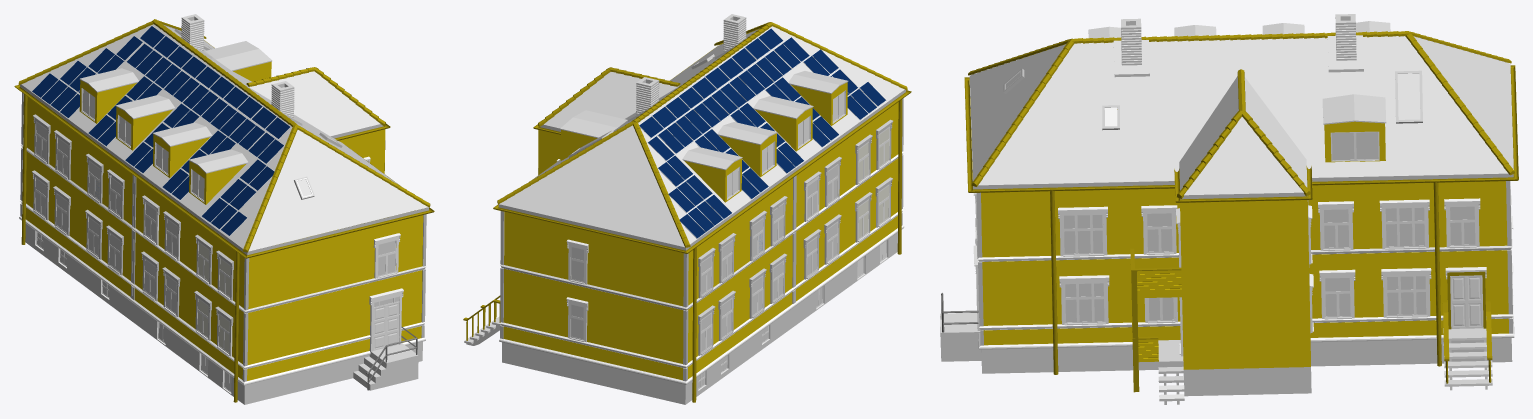
The model's file is house_panel_2_1000.glb.
The picture shows the model from 3 angles, left to right: view 1: azimuth 30°, elevation 25°; view 2: azimuth 150°, elevation 25°; view 3: azimuth 270°, elevation 25°; orthographic projection. The views are drawn at different scales.
Visible parts, largest first — view 1: SketchUp.874, SketchUp.871, SketchUp.865, SketchUp.002, SketchUp.511, SketchUp.484, SketchUp.001, SketchUp.872, SketchUp.015, SketchUp.057, SketchUp.052, SketchUp.734 (+19 smaller); view 2: SketchUp.874, SketchUp.871, SketchUp.002, SketchUp.865, SketchUp.511, SketchUp.484, SketchUp.001, SketchUp.872, SketchUp.057, SketchUp.052, SketchUp.734, SketchUp.519 (+14 smaller); view 3: SketchUp.871, SketchUp.874, SketchUp.868, SketchUp.865, SketchUp.002, SketchUp, SketchUp.511, SketchUp.872, SketchUp.734, SketchUp.057, SketchUp.484, SketchUp.019 (+30 smaller).
Part boxes in pixels (x1=…): SketchUp.874: x1=25, y1=97, x2=423, y2=380; SketchUp.871: x1=21, y1=24, x2=428, y2=251; SketchUp.865: x1=249, y1=71, x2=380, y2=136; SketchUp.002: x1=25, y1=224, x2=422, y2=404; SketchUp.511: x1=14, y1=40, x2=434, y2=258; SketchUp.484: x1=19, y1=216, x2=425, y2=385; SketchUp.001: x1=109, y1=286, x2=199, y2=370; SketchUp.872: x1=20, y1=84, x2=428, y2=255; SketchUp.015: x1=353, y1=351, x2=418, y2=390; SketchUp.057: x1=20, y1=200, x2=425, y2=369; SketchUp.052: x1=21, y1=144, x2=426, y2=313; SketchUp.734: x1=205, y1=41, x2=272, y2=71; SketchUp.874: x1=503, y1=102, x2=898, y2=380; SketchUp.871: x1=499, y1=26, x2=904, y2=247; SketchUp.002: x1=502, y1=232, x2=897, y2=404; SketchUp.865: x1=544, y1=72, x2=678, y2=128; SketchUp.511: x1=493, y1=48, x2=911, y2=253; SketchUp.484: x1=499, y1=225, x2=904, y2=384; SketchUp.001: x1=770, y1=262, x2=857, y2=343; SketchUp.872: x1=498, y1=89, x2=905, y2=250; SketchUp.057: x1=499, y1=209, x2=903, y2=368; SketchUp.052: x1=500, y1=153, x2=902, y2=310; SketchUp.734: x1=560, y1=110, x2=627, y2=138; SketchUp.519: x1=755, y1=107, x2=812, y2=151; SketchUp.871: x1=969, y1=36, x2=1513, y2=185; SketchUp.874: x1=981, y1=109, x2=1508, y2=345; SketchUp.868: x1=1180, y1=200, x2=1310, y2=369; SketchUp.865: x1=1179, y1=76, x2=1307, y2=195; SketchUp.002: x1=981, y1=338, x2=1512, y2=373; SketchUp: x1=1183, y1=366, x2=1311, y2=396; SketchUp.511: x1=964, y1=65, x2=1518, y2=192; SketchUp.872: x1=969, y1=77, x2=1513, y2=189; SketchUp.734: x1=1322, y1=94, x2=1386, y2=124; SketchUp.057: x1=975, y1=218, x2=1513, y2=330; SketchUp.484: x1=975, y1=240, x2=1514, y2=349; SketchUp.019: x1=1137, y1=270, x2=1181, y2=298.
Bounding box in the file's own units: 13.74 × 13.47 × 22.92.
